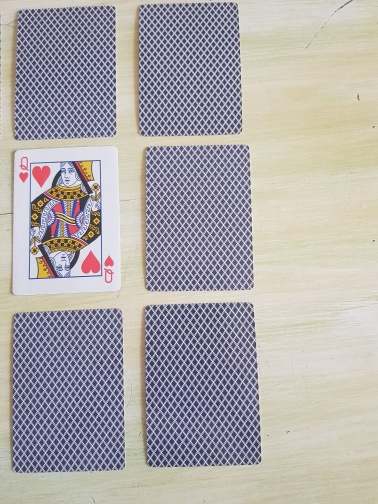queen: (10, 145, 122, 297)
